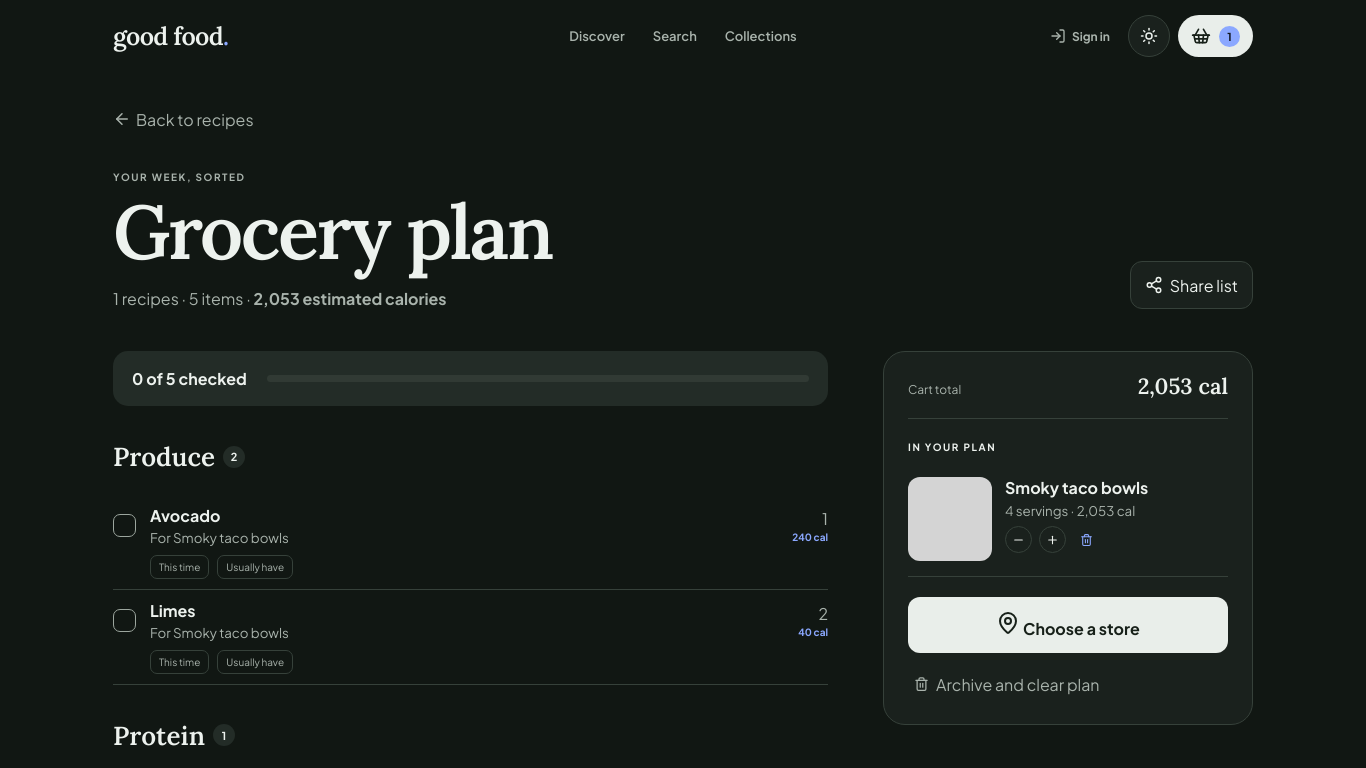
Test: grocery sharing › copies a categorized grocery list without exposing recipe details
Click the button "Share list" at [1191, 285], box x1=1130 y1=261 x2=1253 y2=309
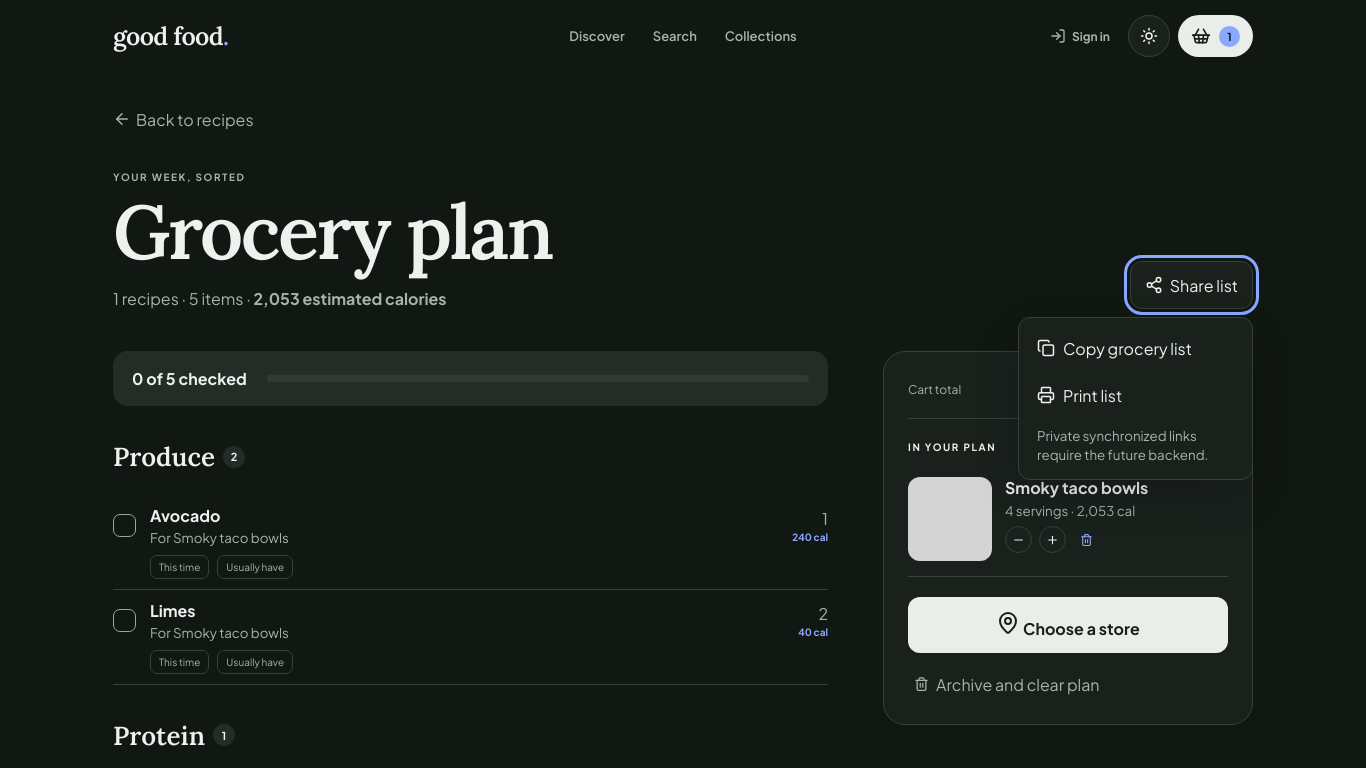
Click the button "Copy grocery list" at [1136, 348], box x1=1027 y1=326 x2=1244 y2=370
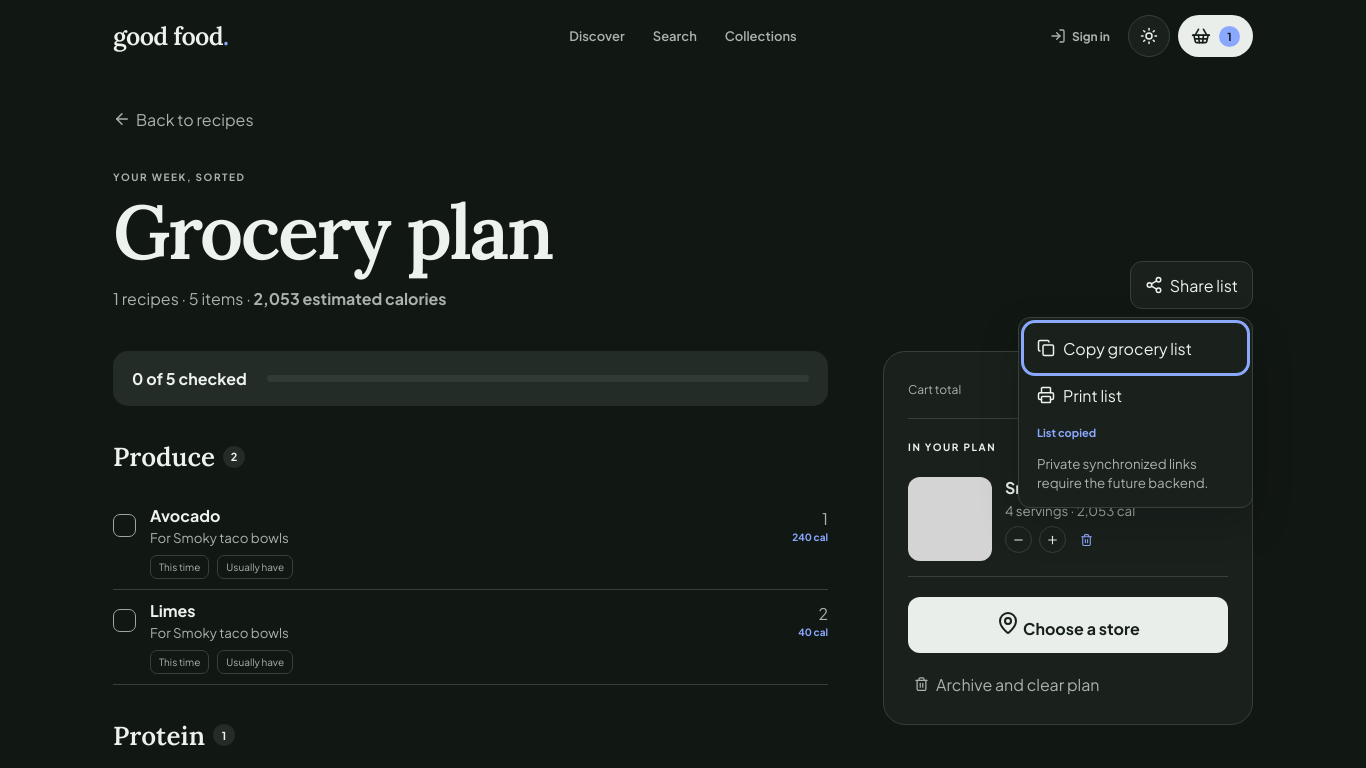
Now the text "List copied" is shown, box x1=1037 y1=426 x2=1096 y2=439
